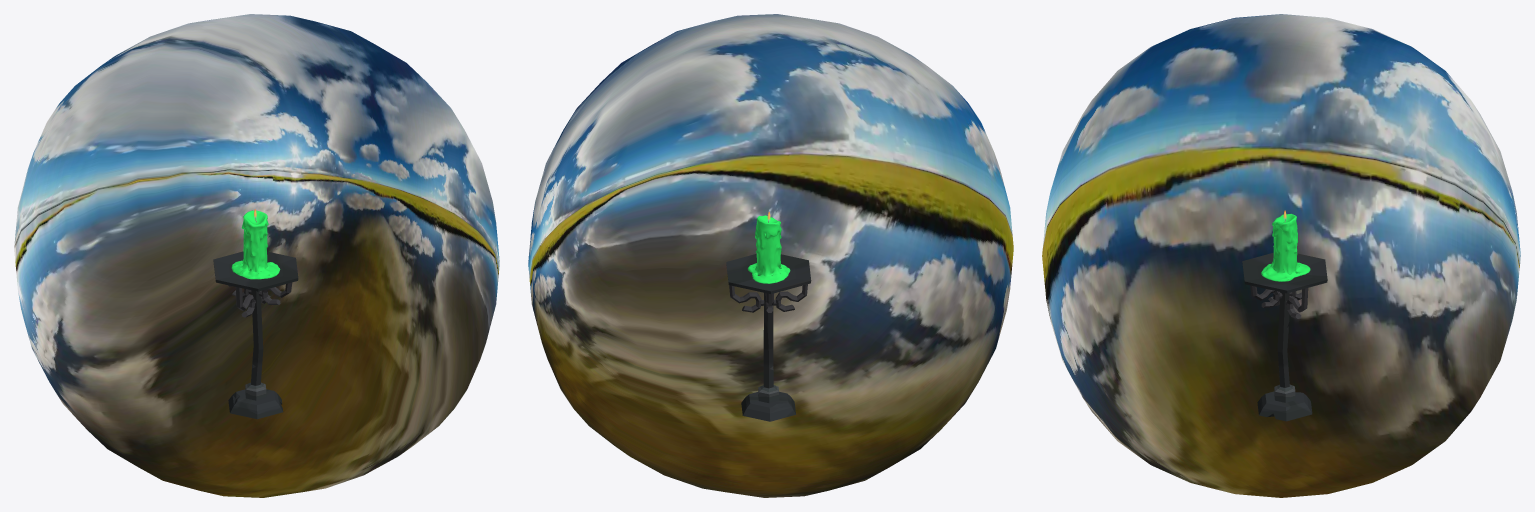
Rendered from XCandleAnimatedFlame2.glb.
3 views of the same model, side by side, from view 1: azimuth 30°, elevation 25°; view 2: azimuth 150°, elevation 25°; view 3: azimuth 270°, elevation 25° (orthographic).
Visible parts, largest first — view 1: Room, Candle_Stand, XBase; view 2: Room, Candle_Stand, XBase; view 3: Room, Candle_Stand, XBase.
Part boxes in pixels (x1=…): Room: x1=14, y1=14, x2=499, y2=497; Candle_Stand: x1=213, y1=251, x2=298, y2=419; XBase: x1=231, y1=210, x2=280, y2=279; Room: x1=528, y1=14, x2=1013, y2=497; Candle_Stand: x1=726, y1=254, x2=811, y2=421; XBase: x1=748, y1=215, x2=790, y2=283; Room: x1=1042, y1=14, x2=1520, y2=497; Candle_Stand: x1=1242, y1=252, x2=1327, y2=421; XBase: x1=1261, y1=213, x2=1310, y2=281.
Size of the model in its own units: 24.44 by 24.44 by 24.44.
Materials: 5 (3 with a texture image).
